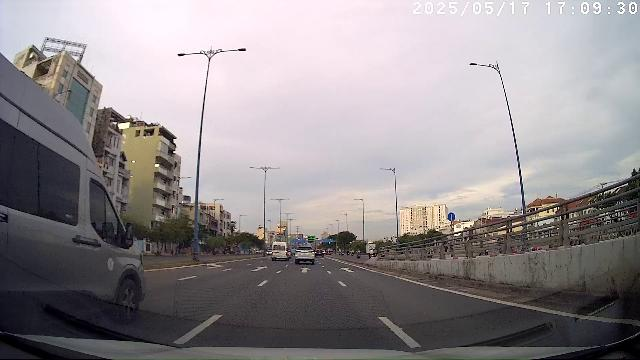301a-cac-xe-chi-duoc-di-thang: (447, 212, 456, 222)
